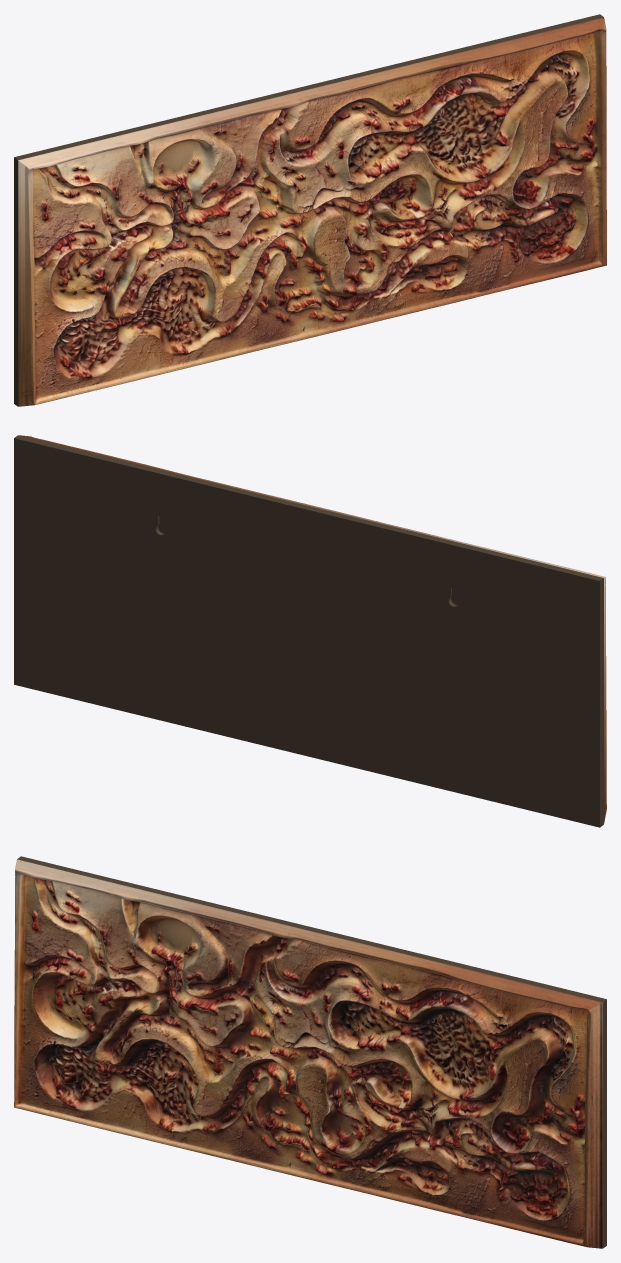
File: H60-web.glb
3 renders of one model, top to bottom at view 1: azimuth 30°, elevation 25°; view 2: azimuth 150°, elevation 25°; view 3: azimuth 330°, elevation 25°, orthographic.
Parts seen in each view (by area): view 1: p_karinca; view 2: p_karinca; view 3: p_karinca.
Boxes of the visible parts, <box> form: p_karinca: <box>14,14,606,406</box>; p_karinca: <box>14,435,606,827</box>; p_karinca: <box>14,856,606,1248</box>.
Bounding box in the file's own units: 0.6 × 0.2413 × 0.0271.
2 materials, 1 textured.
